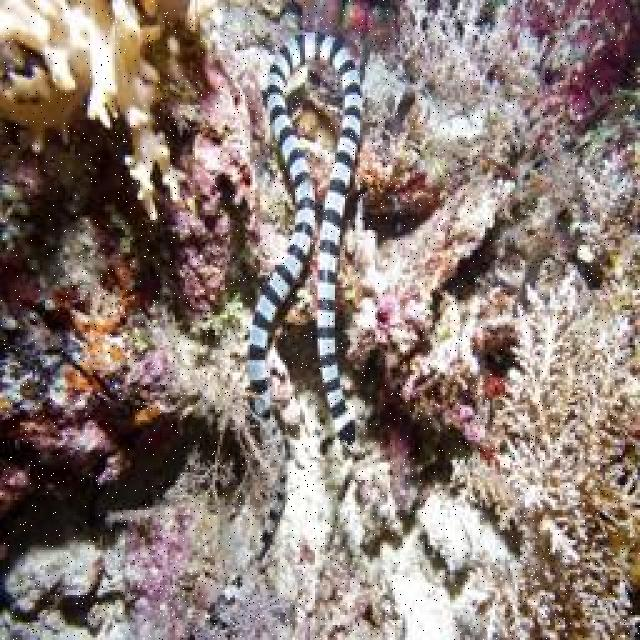fish: (204, 31, 364, 619)
reefs: (450, 274, 638, 638), (0, 0, 196, 222)
